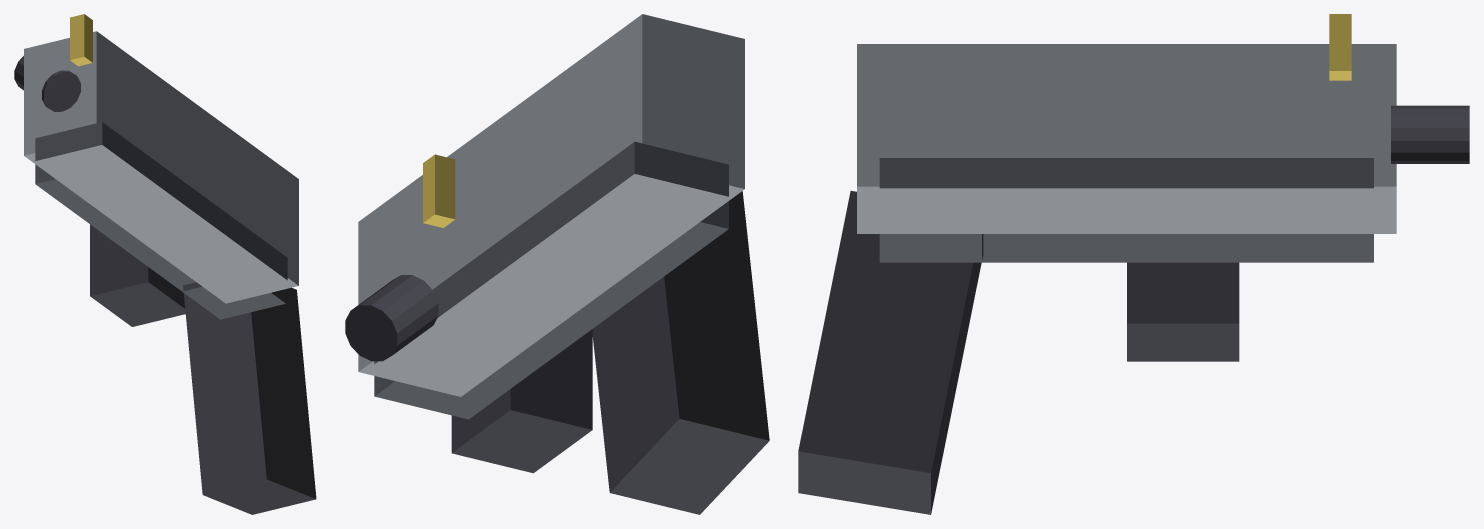
File: pistol.glb
3 renders of one model, left to right at view 1: azimuth 30°, elevation 25°; view 2: azimuth 150°, elevation 25°; view 3: azimuth 270°, elevation 25°, orthographic. The views are drawn at different scales.
Visible parts, largest first — view 1: body, muzzle; view 2: body, muzzle; view 3: body, muzzle.
Part boxes in pixels (x1,y1,x2,y2): body: [24, 14, 316, 514]; muzzle: [14, 56, 80, 111]; body: [358, 14, 769, 514]; muzzle: [345, 275, 438, 361]; body: [798, 14, 1396, 514]; muzzle: [1391, 105, 1469, 163].
Bounding box in the file's own units: 0.05 × 0.2333 × 0.2987.
